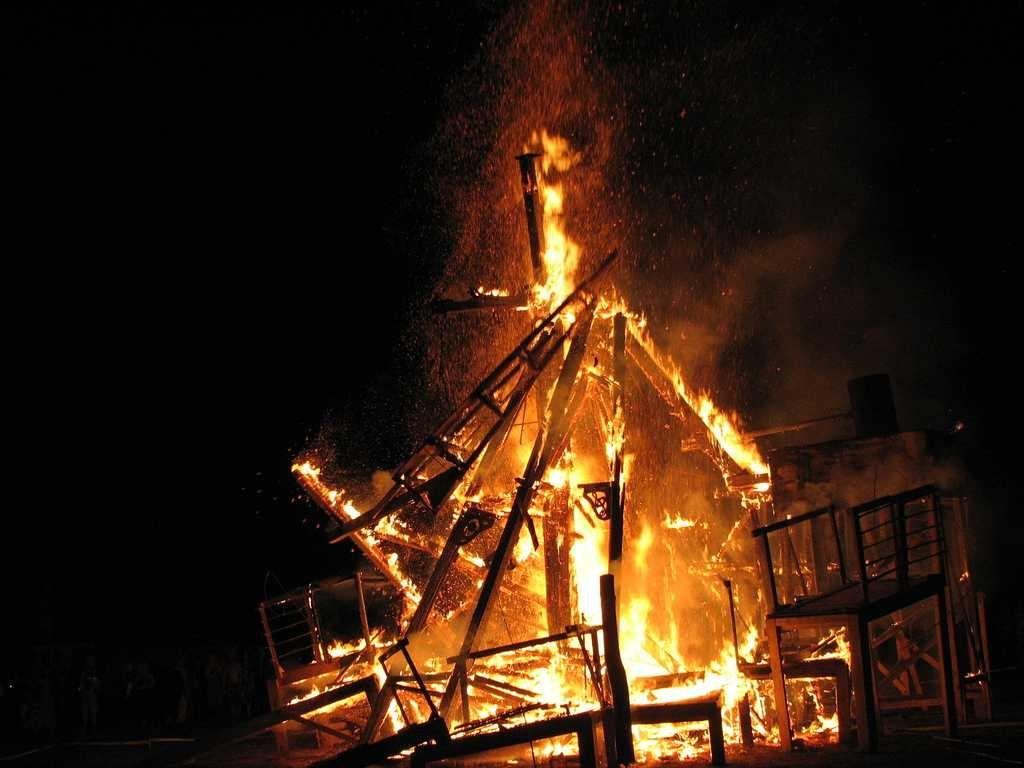fire: (538, 192, 574, 304), (578, 522, 612, 608), (626, 596, 658, 686)
